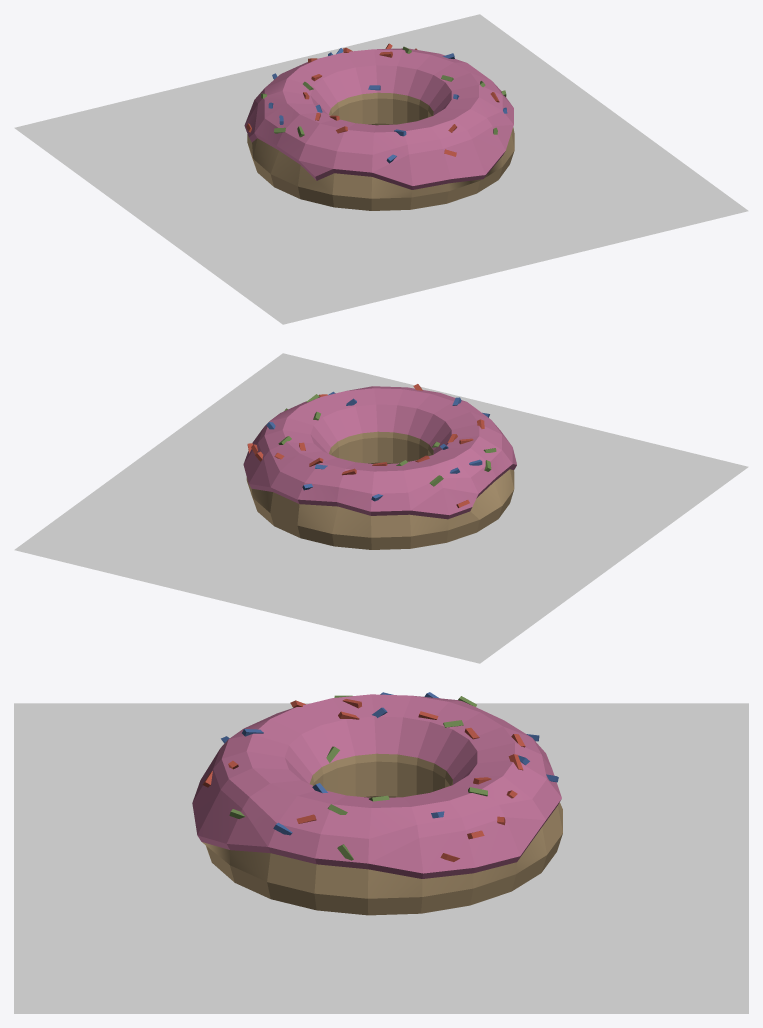
Rendered from donut-pink-light.dae.
3 views of the same model, one above another, from view 1: azimuth 30°, elevation 25°; view 2: azimuth 150°, elevation 25°; view 3: azimuth 270°, elevation 25° (orthographic). The views are drawn at different scales.
Visible parts, largest first — view 1: Plane, Donut1; view 2: Plane, Donut1; view 3: Plane, Donut1.
Boxes of the visible parts, x1,y1,x2,y2 form: Plane: (14, 14, 748, 324); Donut1: (244, 43, 514, 210); Plane: (14, 353, 748, 663); Donut1: (243, 384, 516, 549); Plane: (14, 703, 748, 1013); Donut1: (192, 692, 562, 915).
Bounding box in the file's own units: 7.22 × 7.22 × 1.23.
